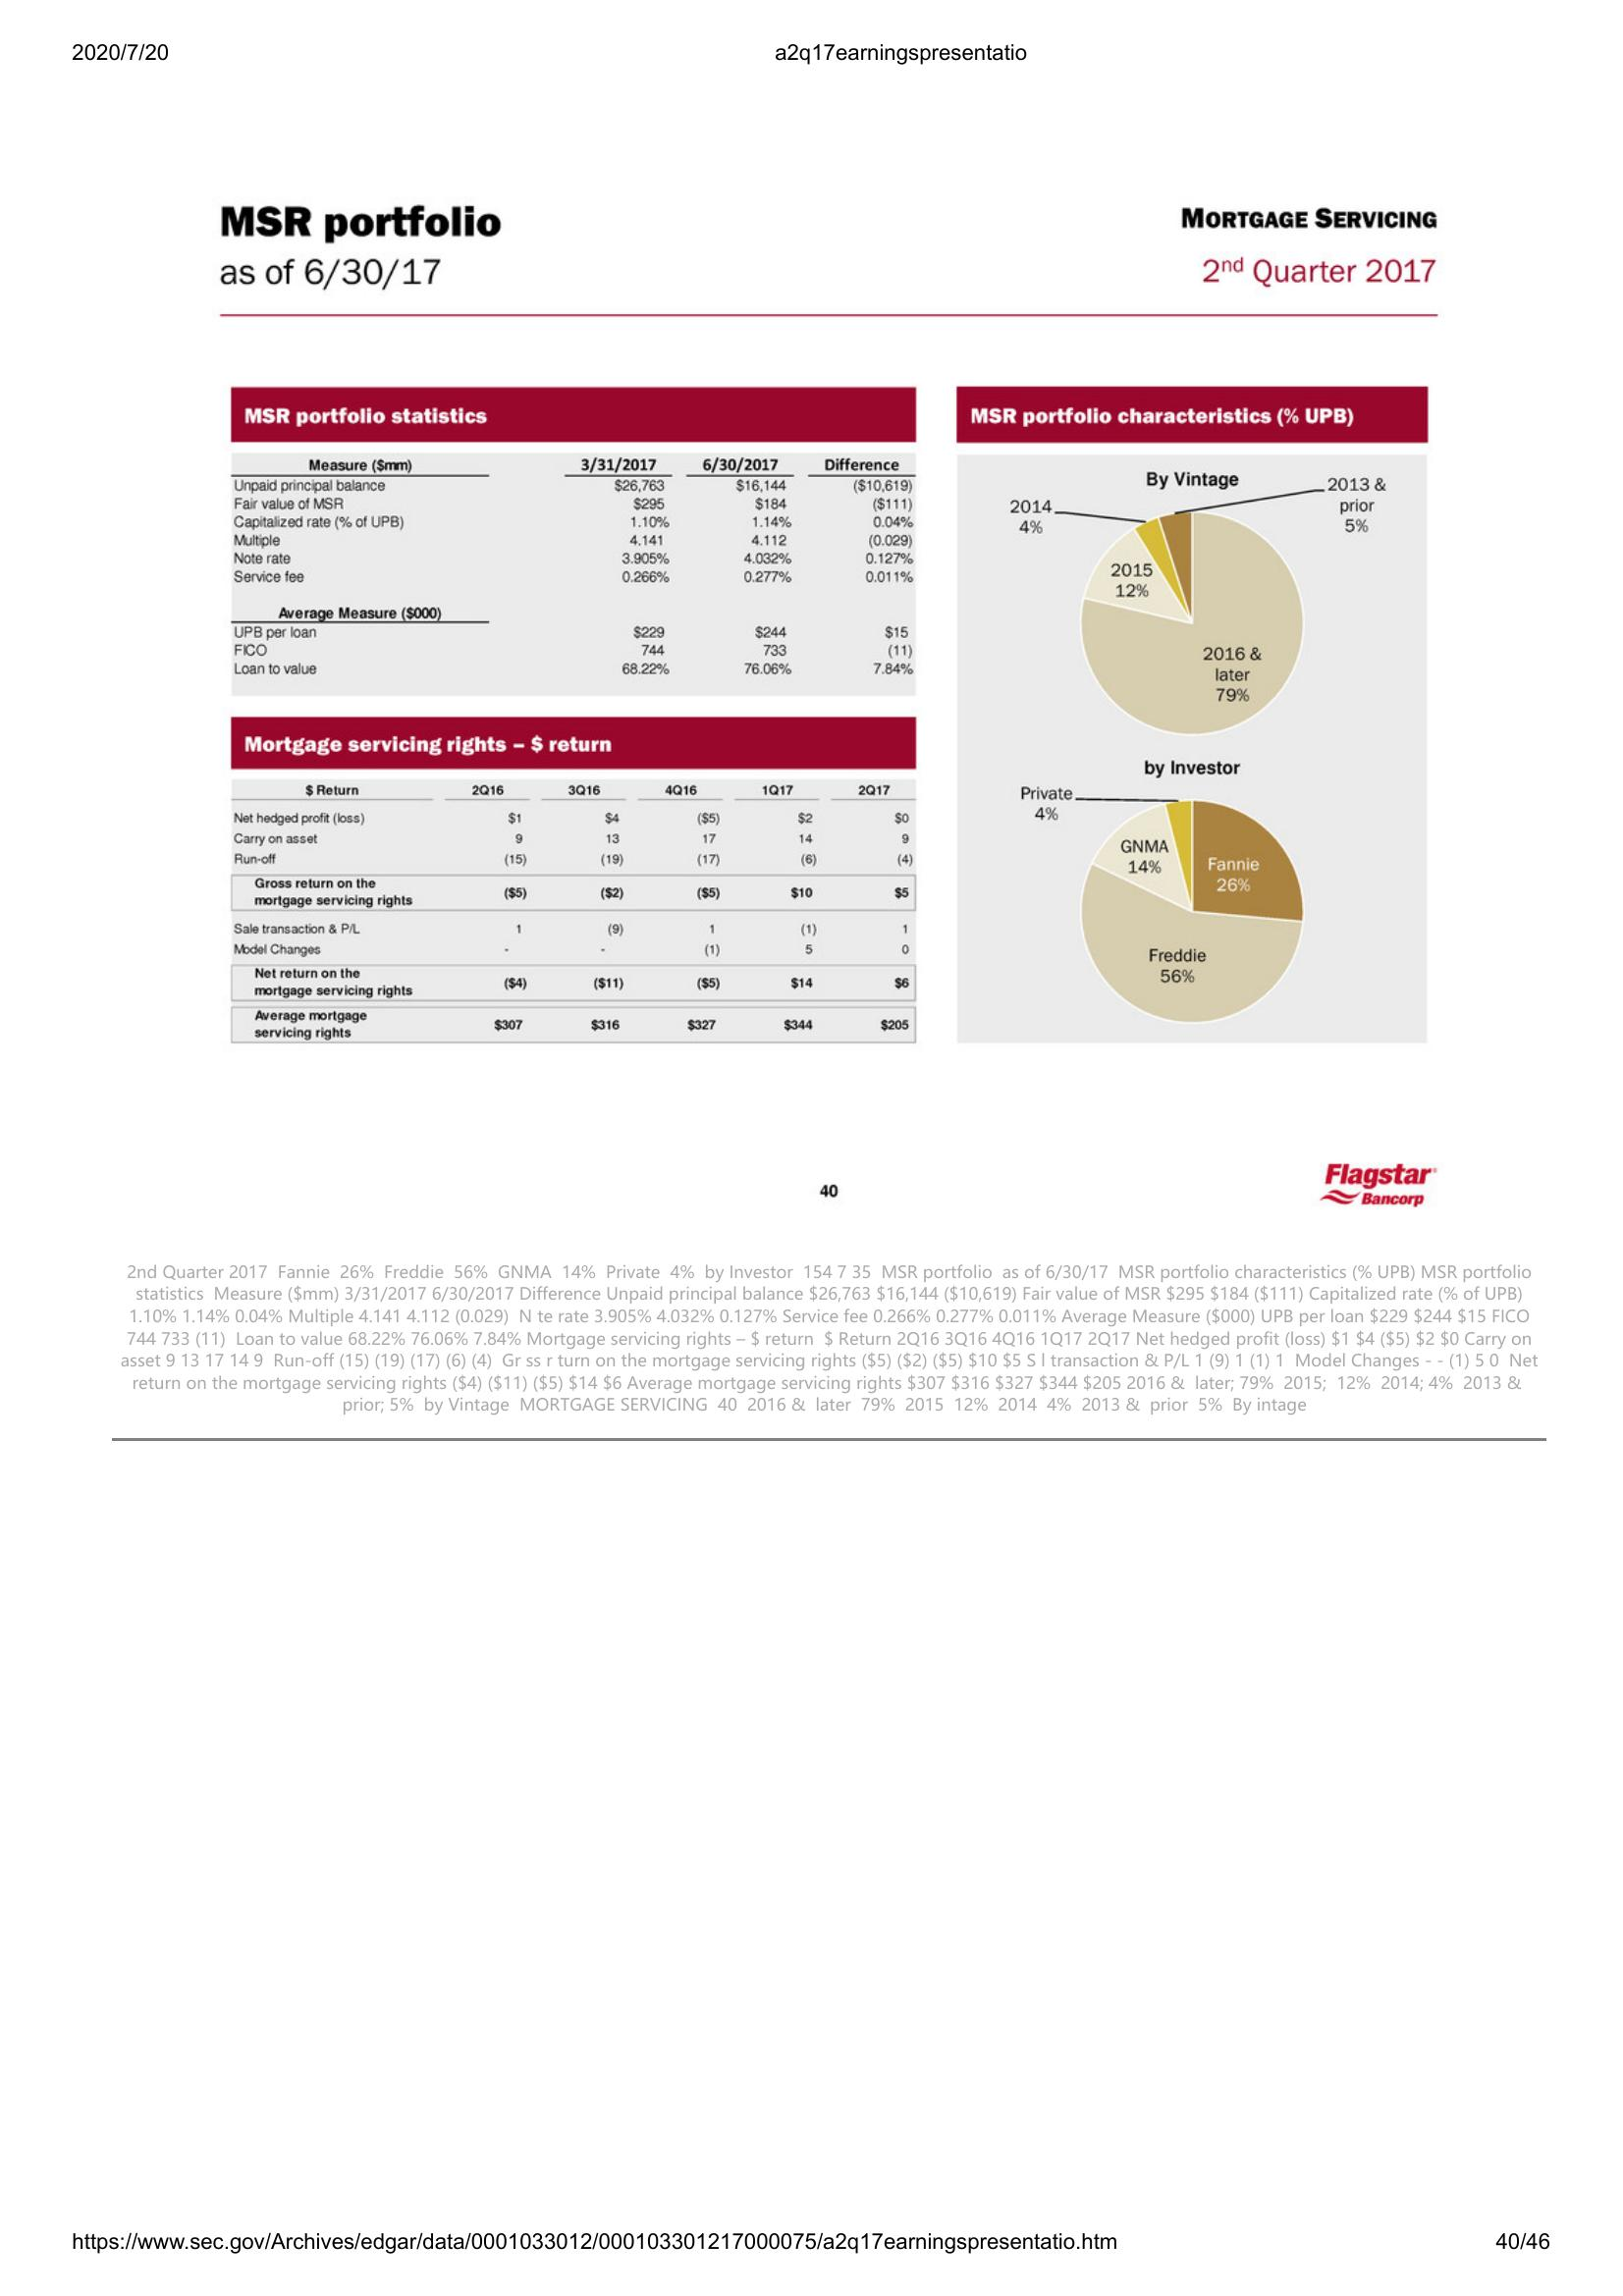table: (228, 714, 929, 1048), (230, 383, 926, 704)
